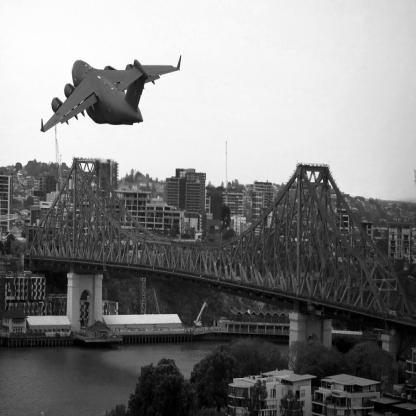C17: (41, 56, 182, 134)
